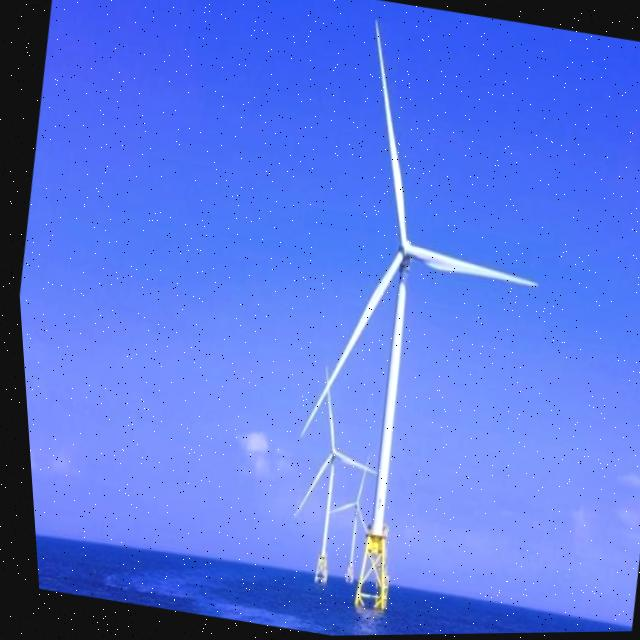solid-blade: (294, 252, 399, 436), (375, 22, 403, 244), (402, 244, 533, 289)
wind-turbine: (294, 23, 533, 533)
